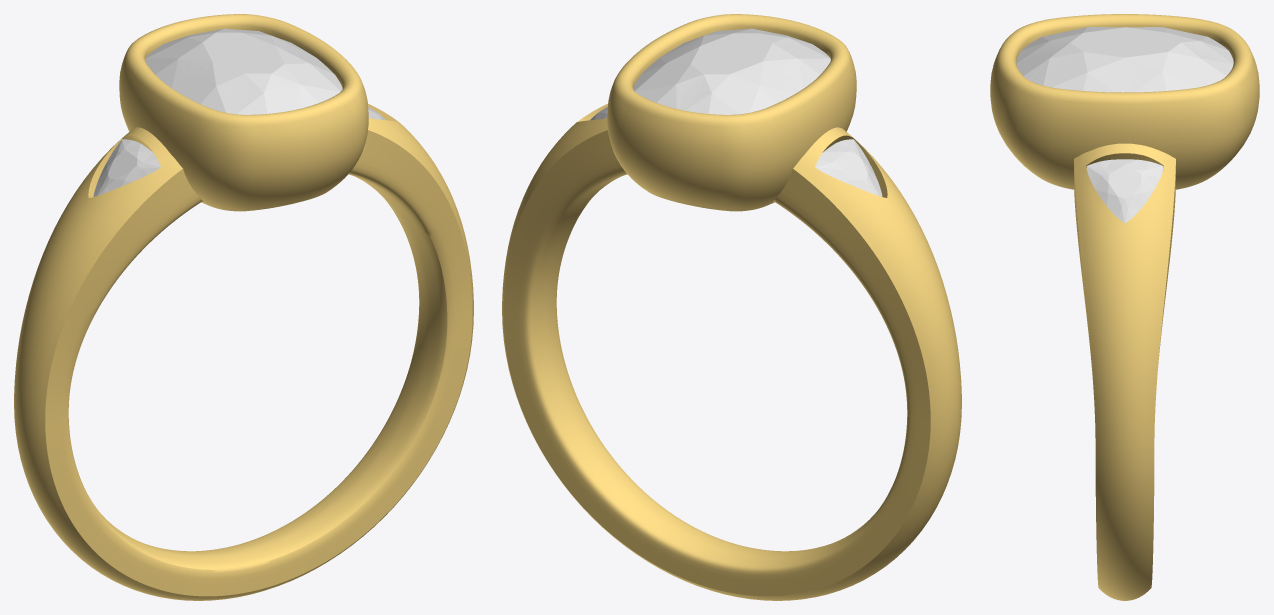
Rendered from SamV4eng_blender.glb.
3 renders of one model, left to right at view 1: azimuth 30°, elevation 25°; view 2: azimuth 150°, elevation 25°; view 3: azimuth 270°, elevation 25°, orthographic.
Visible parts, largest first — view 1: V4 Sam YG for 3d model, V4 Sam dia for 3d model, V4 Sam dia for 3d model.002; view 2: V4 Sam YG for 3d model, V4 Sam dia for 3d model, V4 Sam dia for 3d model.002; view 3: V4 Sam YG for 3d model, V4 Sam dia for 3d model, V4 Sam dia for 3d model.001.
Part boxes in pixels (x1,y1,x2,y2): V4 Sam YG for 3d model: [14, 14, 473, 600]; V4 Sam dia for 3d model: [145, 28, 342, 114]; V4 Sam dia for 3d model.002: [93, 139, 160, 196]; V4 Sam YG for 3d model: [502, 14, 961, 600]; V4 Sam dia for 3d model: [633, 28, 830, 114]; V4 Sam dia for 3d model.002: [815, 139, 882, 196]; V4 Sam YG for 3d model: [990, 14, 1259, 600]; V4 Sam dia for 3d model: [1016, 27, 1233, 92]; V4 Sam dia for 3d model.001: [1086, 159, 1163, 222].
Bounding box in the file's own units: 20.1 × 23.03 × 10.53.
